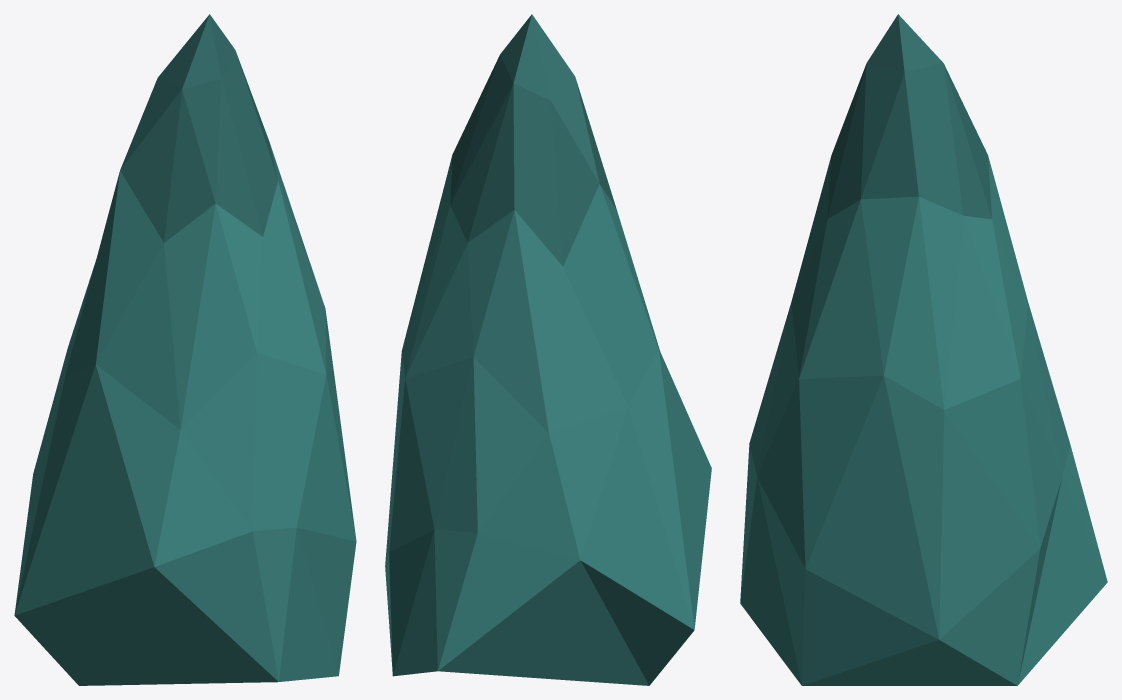
Rendered from Tree_6_Blue.fbx.
The picture shows the model from 3 angles, left to right: view 1: azimuth 30°, elevation 25°; view 2: azimuth 150°, elevation 25°; view 3: azimuth 270°, elevation 25°; orthographic projection.
Parts seen in each view (by area): view 1: Tree_6_Blue; view 2: Tree_6_Blue; view 3: Tree_6_Blue.
Part boxes in pixels (x1,y1,x2,y2): Tree_6_Blue: [14, 14, 356, 685]; Tree_6_Blue: [385, 14, 711, 685]; Tree_6_Blue: [740, 14, 1107, 685].
Bounding box in the file's own units: 394 × 793 × 415.
